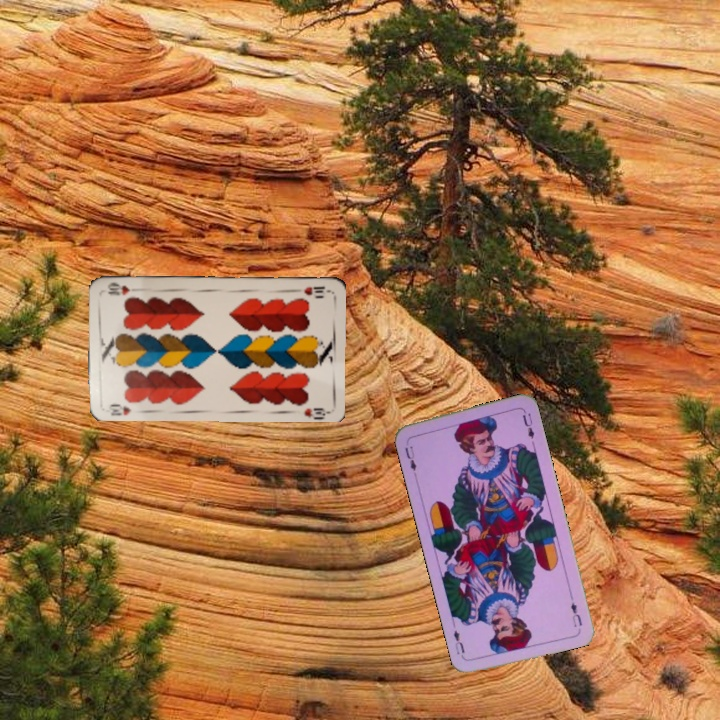EU: (401, 438, 419, 478), (566, 591, 584, 630)
H10: (102, 400, 134, 418), (290, 282, 328, 297)
